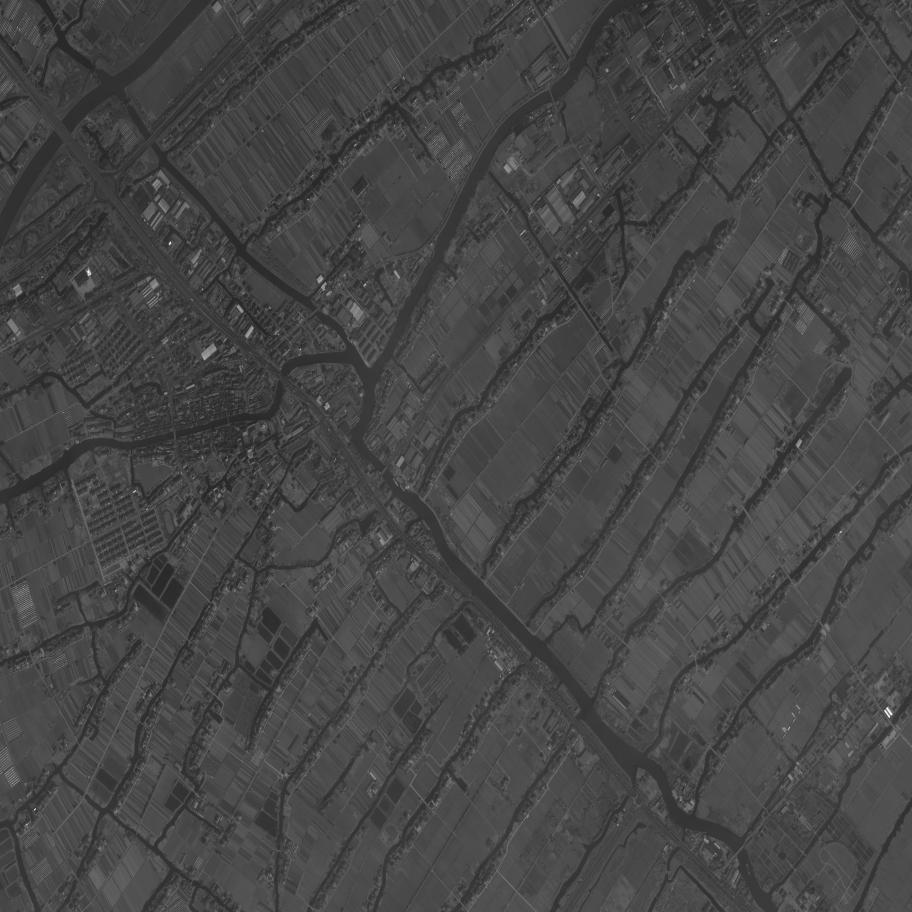ship: (746, 863, 751, 875), (399, 484, 406, 492), (393, 478, 399, 487)
